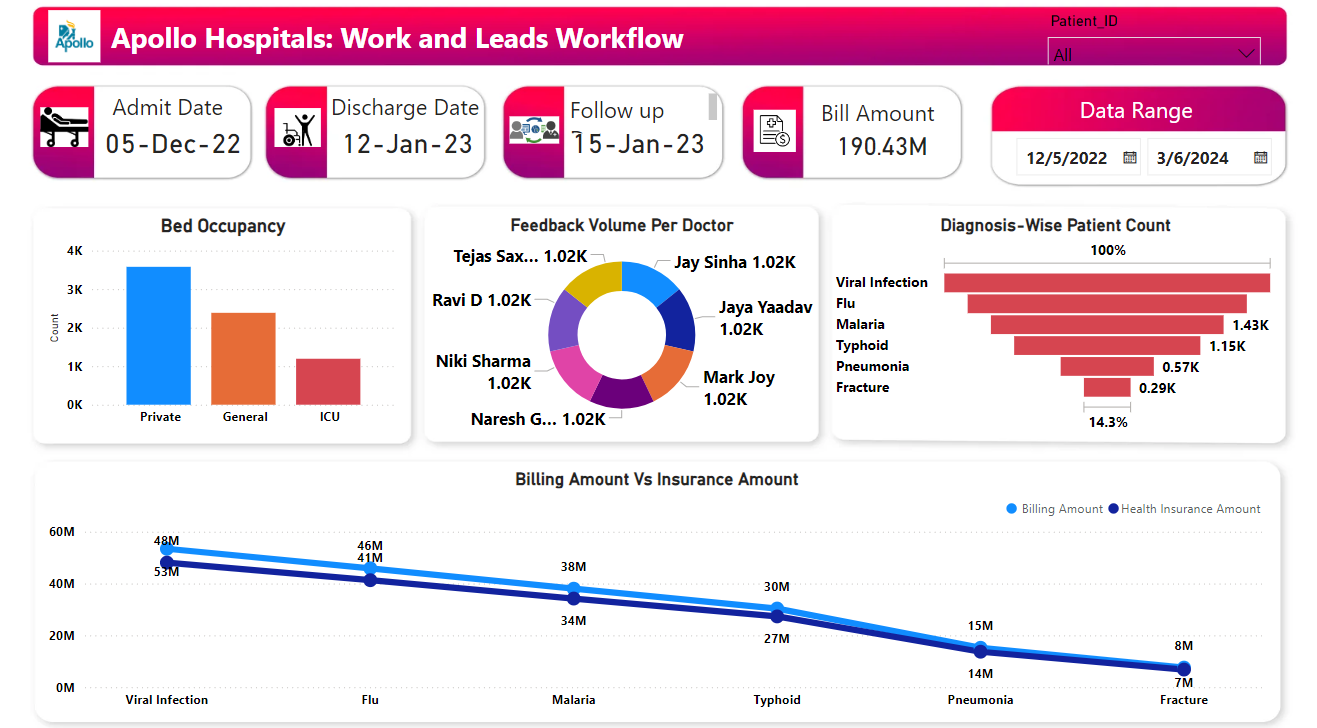

This screenshot's page, from the dashboard's own definition file:
{"tool":"powerbi","page":{"name":"Page 1","canvas":[1280,720],"ordinal":0},"visuals":[{"type":"image","box":[44.6,9.7,60.3,67.6],"z":0},{"type":"textbox","box":[105,21.7,573.1,45.8],"z":1000},{"type":"slicer","fields":{"Values":["Sheet1.Patient_ID"]},"box":[1003.8,15.7,225.6,55.5],"z":2000},{"type":"card","fields":{"Values":["Sheet1.Admit_Date"]},"box":[83.2,100.1,173.7,91.7],"z":3000},{"type":"textbox","box":[106.2,91.7,127.9,43.4],"z":3001},{"type":"card","fields":{"Values":["Sheet1.Discharge_Date"]},"box":[317.3,118.2,158,55.5],"z":3002},{"type":"textbox","box":[317.3,91.7,161.7,39.8],"z":3003},{"type":"textbox","box":[547.7,94.1,152,48.3],"z":3004},{"type":"card","fields":{"Values":["Sheet1.Followup Date"]},"box":[547.7,123.1,143.6,45.8],"z":3005},{"type":"textbox","box":[790.2,97.7,127.9,39.8],"z":3006},{"type":"card","fields":{"Values":["Sheet1.Billing Amount"]},"box":[804.7,125.5,98.9,48.3],"z":3007},{"type":"slicer","fields":{"Values":["Sheet1.Admit_Date"]},"box":[971.2,131.5,267.8,50.7],"z":3009},{"type":"textbox","box":[1040,94.1,136.3,48.3],"z":3010},{"type":"columnChart","title":"Bed Occupancy","fields":{"Category":["Sheet1.Bed_Occupancy"],"Y":["Sheet1.Bed_Occupancy"]},"box":[44.6,216,347.5,213.5],"z":3011},{"type":"image","box":[719,109.8,62.7,50.7],"z":3012},{"type":"image","box":[36.2,107.4,57.9,48.3],"z":3013},{"type":"image","box":[263,105,54.3,53.1],"z":3014},{"type":"image","box":[489.8,97.7,57.9,73.6],"z":3015},{"type":"donutChart","title":"Feedback Volume Per Doctor","fields":{"Category":["Sheet1.Doctor"],"Y":["Sheet1.Doctor"]},"box":[416.2,216,374,213.5],"z":3016},{"type":"funnel","title":"Diagnosis-Wise Patient Count","fields":{"Category":["Sheet1.Diagnosis"],"Y":["Sheet1.Diagnosis"]},"box":[804.7,216,434.3,213.5],"z":3017},{"type":"lineChart","title":"Billing Amount Vs Insurance Amount","fields":{"Y":["Sheet1.Billing Amount","Sheet1.Health Insurance Amount"],"Category":["Sheet1.Diagnosis"]},"box":[44.6,460.9,1184.7,241.3],"z":3018}]}

Visuals, with their boxes in screenshot pixels (x1, y1, x2, y2), scaled from the page's 1280x720 canvas onto the 1317x728 screenshot:
image: box(46, 10, 108, 78)
textbox: box(108, 22, 698, 68)
slicer - Sheet1.Patient_ID: box(1033, 16, 1265, 72)
card - Sheet1.Admit_Date: box(86, 101, 264, 194)
textbox: box(109, 93, 241, 137)
card - Sheet1.Discharge_Date: box(326, 120, 489, 176)
textbox: box(326, 93, 493, 133)
textbox: box(564, 95, 720, 144)
card - Sheet1.Followup Date: box(564, 124, 711, 171)
textbox: box(813, 99, 945, 139)
card - Sheet1.Billing Amount: box(828, 127, 930, 176)
slicer - Sheet1.Admit_Date: box(999, 133, 1275, 184)
textbox: box(1070, 95, 1210, 144)
"Bed Occupancy" columnChart: box(46, 218, 403, 434)
image: box(740, 111, 804, 162)
image: box(37, 109, 97, 157)
image: box(271, 106, 326, 160)
image: box(504, 99, 564, 173)
"Feedback Volume Per Doctor" donutChart: box(428, 218, 813, 434)
"Diagnosis-Wise Patient Count" funnel: box(828, 218, 1275, 434)
"Billing Amount Vs Insurance Amount" lineChart: box(46, 466, 1265, 710)
